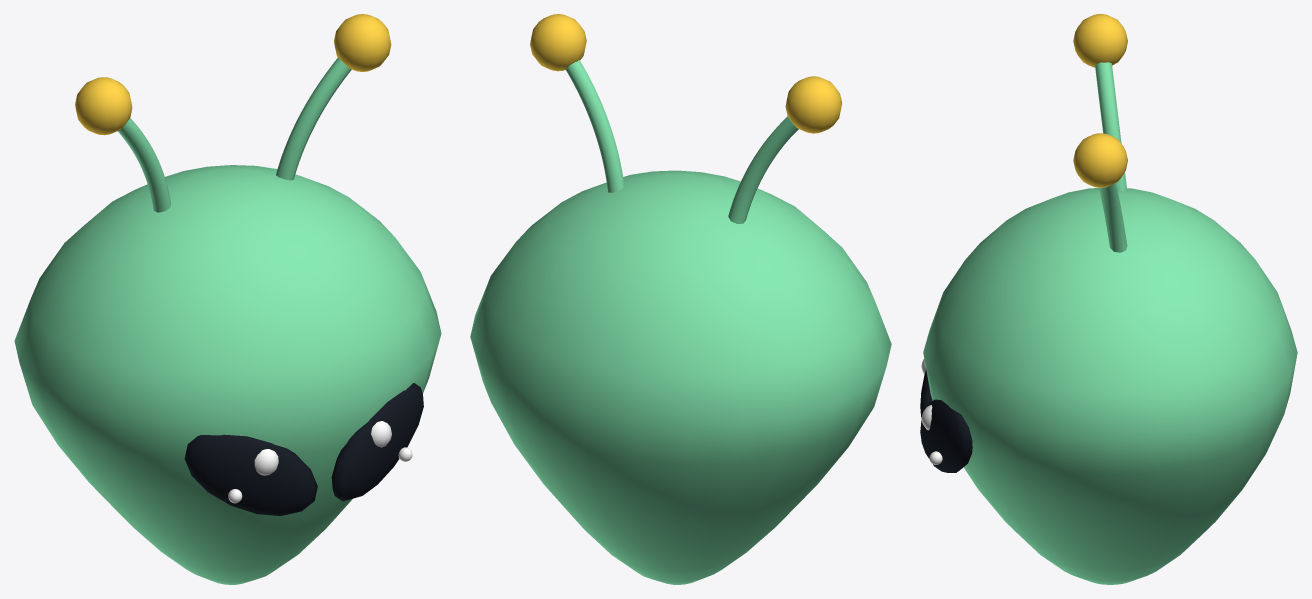
The model's file is Alien.fbx.
3 renders of one model, left to right at view 1: azimuth 30°, elevation 25°; view 2: azimuth 150°, elevation 25°; view 3: azimuth 270°, elevation 25°, orthographic. The views are drawn at different scales.
Parts seen in each view (by area): view 1: AlienHead; view 2: AlienHead; view 3: AlienHead.
Boxes of the visible parts, x1,y1,x2,y2 form: AlienHead: [14, 14, 441, 584]; AlienHead: [470, 14, 891, 584]; AlienHead: [920, 14, 1297, 584].
Size of the model in its own units: 211 by 284 by 193.
Materials: 1 (1 with a texture image).
